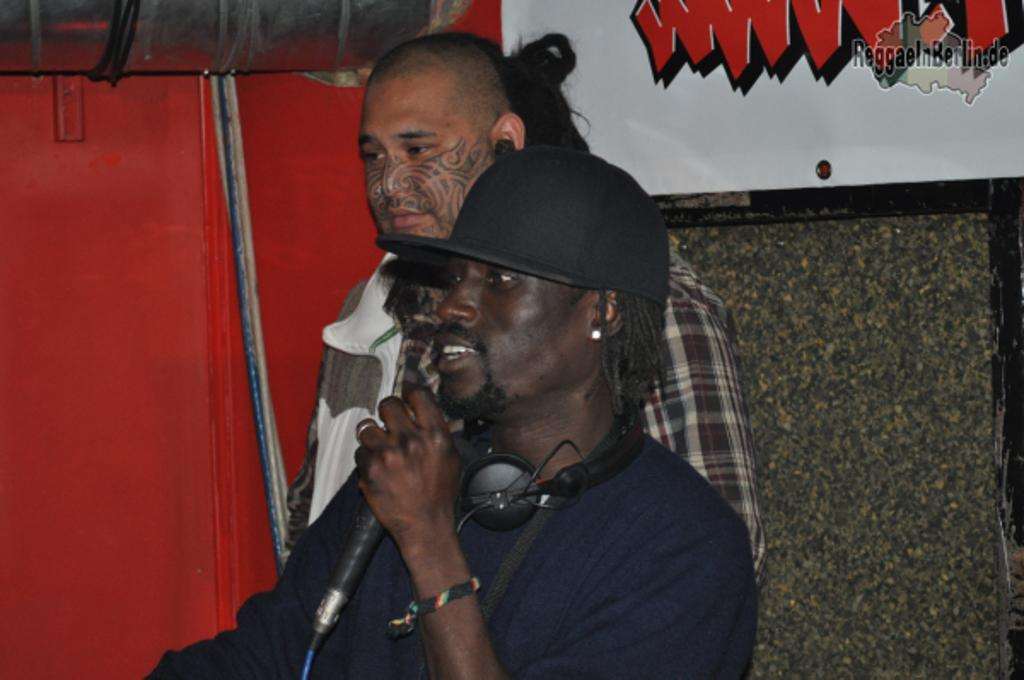face: (428, 228, 568, 404), (364, 74, 474, 244)
